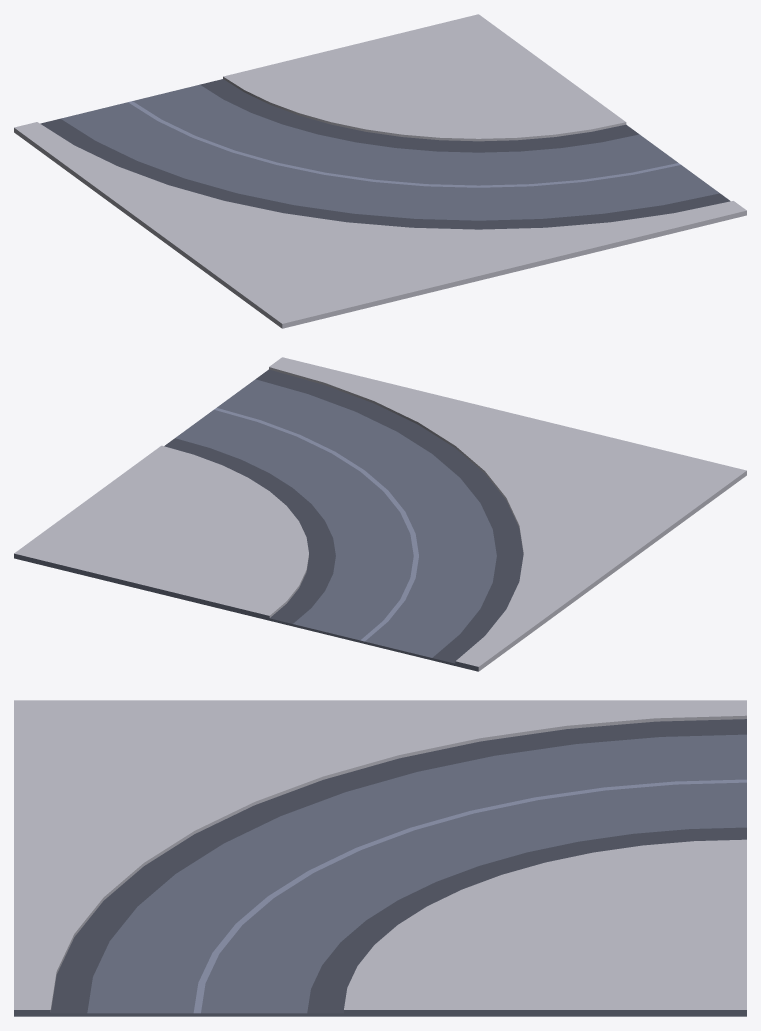
The model's file is Road Curve Pavement.glb.
3 renders of one model, top to bottom at view 1: azimuth 30°, elevation 25°; view 2: azimuth 150°, elevation 25°; view 3: azimuth 270°, elevation 25°, orthographic. The views are drawn at different scales.
Parts seen in each view (by area): view 1: road_curvePavement; view 2: road_curvePavement; view 3: road_curvePavement.
Boxes of the visible parts, x1,y1,x2,y2 form: road_curvePavement: [14, 14, 746, 328]; road_curvePavement: [14, 357, 746, 671]; road_curvePavement: [14, 700, 746, 1016].
Bounding box in the file's own units: 2 × 0.02 × 2.
